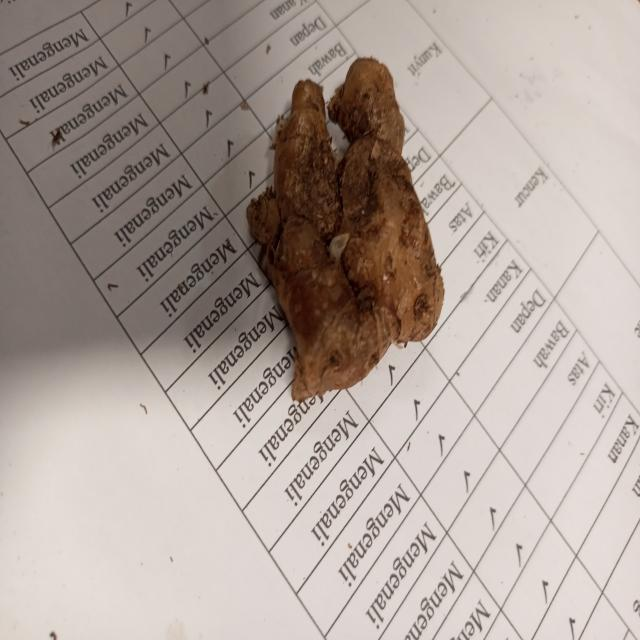ginger: (259, 60, 441, 369)
